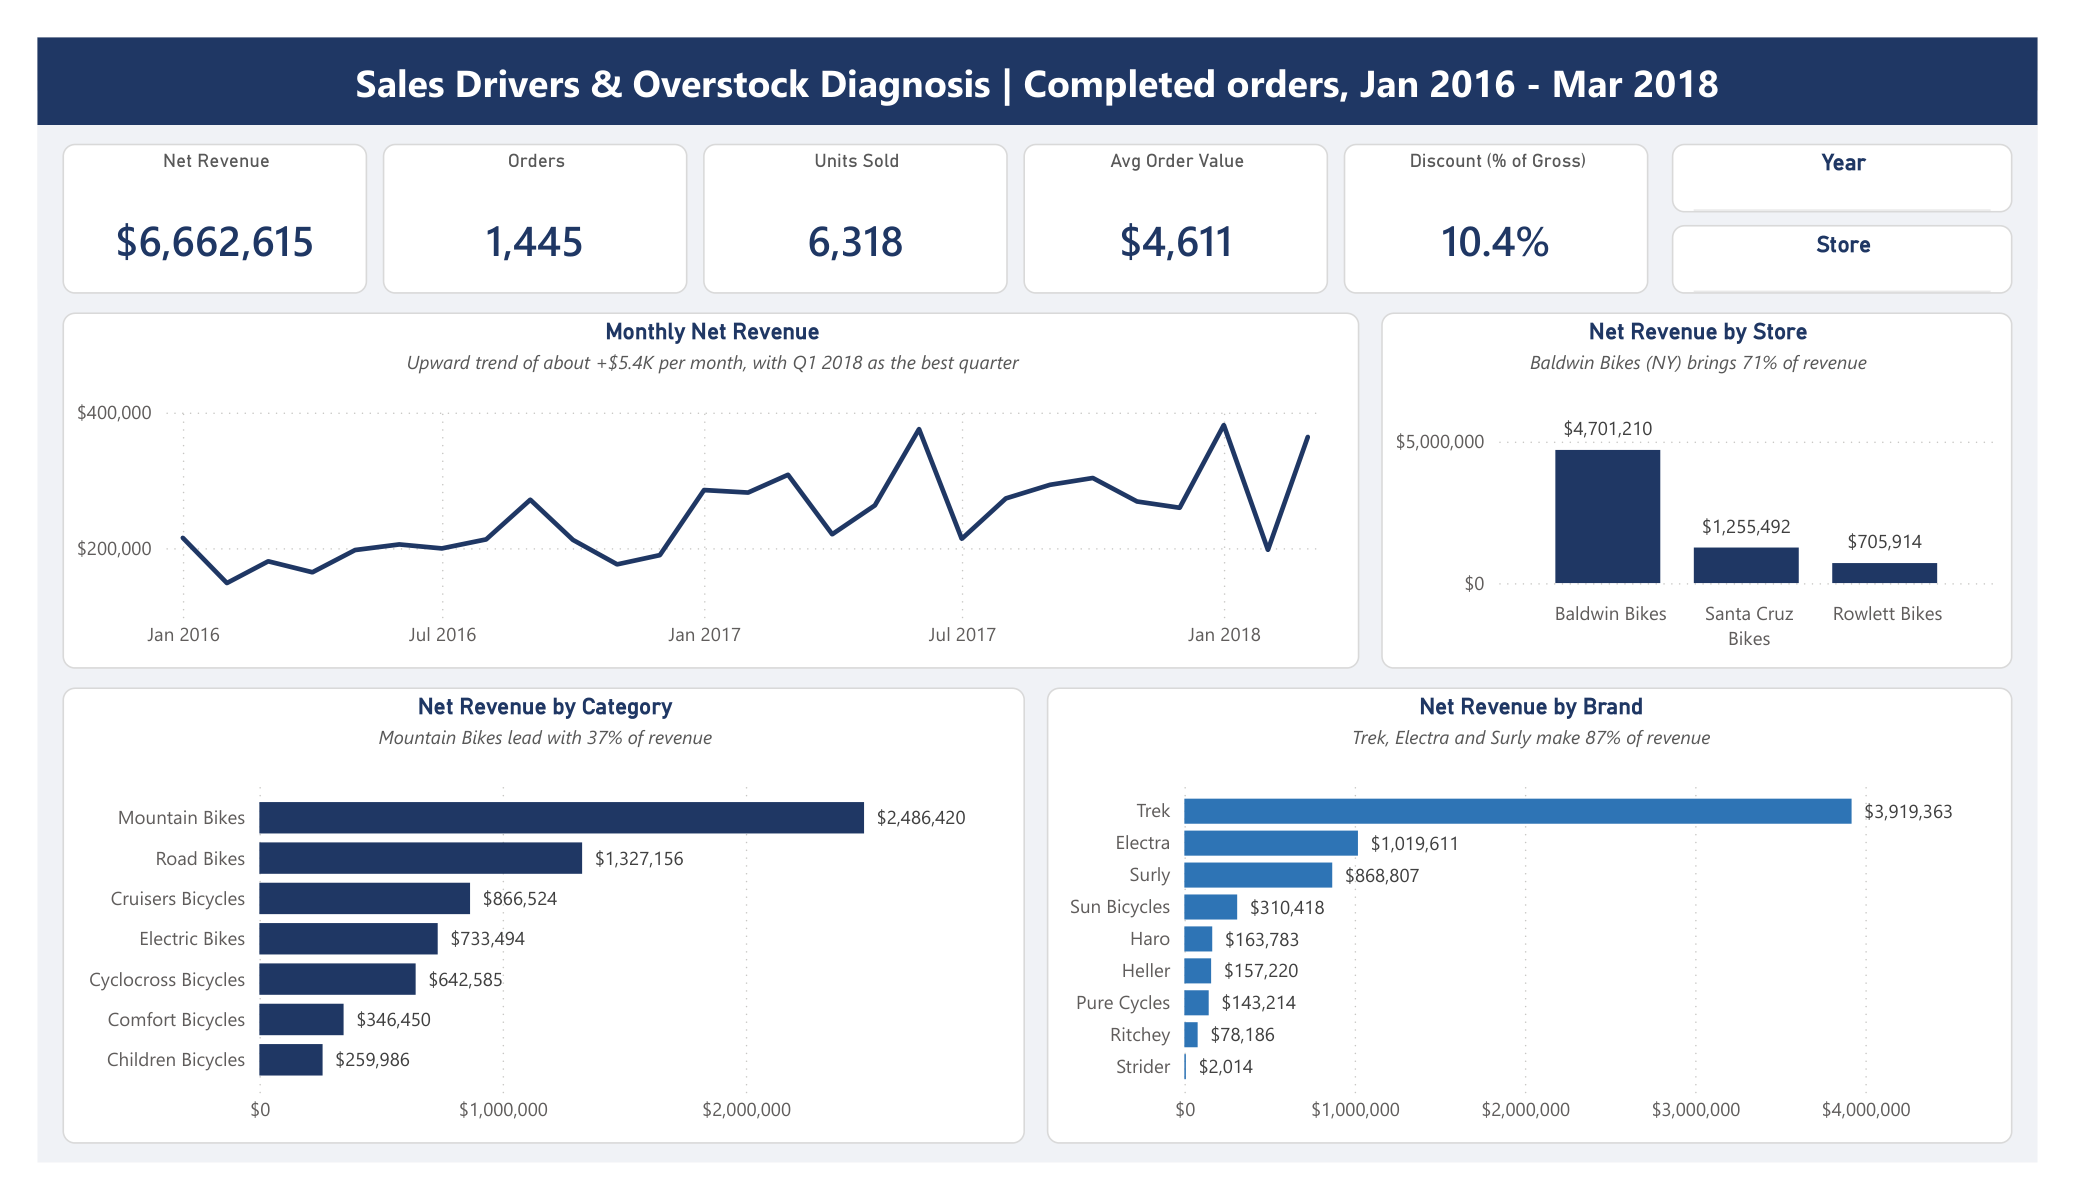

What the dashboard file says about the page in this screenshot:
{"tool":"powerbi","page":{"name":"Overview","canvas":[1280,720],"ordinal":0},"visuals":[{"type":"shape","box":[0,0,1280,56],"z":1000},{"type":"cardVisual","title":"Net Revenue","fields":{"Data":["Sales.Net Revenue"]},"box":[16,68,195,96],"z":2000},{"type":"cardVisual","title":"Orders","fields":{"Data":["Sales.Orders"]},"box":[221,68,195,96],"z":3000},{"type":"cardVisual","title":"Units Sold","fields":{"Data":["Sales.Units"]},"box":[426,68,195,96],"z":4000},{"type":"cardVisual","title":"Avg Order Value","fields":{"Data":["Sales.Avg Order Value"]},"box":[631,68,195,96],"z":5000},{"type":"cardVisual","title":"Discount (% of Gross)","fields":{"Data":["Sales.Discount %"]},"box":[836,68,195,96],"z":6000},{"type":"slicer","title":"Year","fields":{"Values":["Date.Year"]},"box":[1046,68,218,44],"z":7000},{"type":"slicer","title":"Store","fields":{"Values":["Stores.Store"]},"box":[1046,120,218,44],"z":8000},{"type":"lineChart","title":"Monthly Net Revenue","fields":{"Category":["Date.Month Start"],"Y":["Sales.Net Revenue"]},"box":[16,176,830,228],"z":9000},{"type":"clusteredColumnChart","title":"Net Revenue by Store","fields":{"Category":["Stores.Store"],"Y":["Sales.Net Revenue"]},"box":[860,176,404,228],"z":10000},{"type":"clusteredBarChart","title":"Net Revenue by Category","fields":{"Category":["Products.Category"],"Y":["Sales.Net Revenue"]},"box":[16,416,616,292],"z":11000},{"type":"clusteredBarChart","title":"Net Revenue by Brand","fields":{"Category":["Products.Brand"],"Y":["Sales.Net Revenue"]},"box":[646,416,618,292],"z":12000}]}

Visuals, with their boxes on the page's 1280x720 design canvas (x1, y1, x2, y2). These are canvas units, not pixel positions in the 2075x1200 screenshot, which may show the page scaled, cropped or inside an application window:
shape: bbox=(0, 0, 1280, 56)
"Net Revenue" cardVisual: bbox=(16, 68, 211, 164)
"Orders" cardVisual: bbox=(221, 68, 416, 164)
"Units Sold" cardVisual: bbox=(426, 68, 621, 164)
"Avg Order Value" cardVisual: bbox=(631, 68, 826, 164)
"Discount (% of Gross)" cardVisual: bbox=(836, 68, 1031, 164)
"Year" slicer: bbox=(1046, 68, 1264, 112)
"Store" slicer: bbox=(1046, 120, 1264, 164)
"Monthly Net Revenue" lineChart: bbox=(16, 176, 846, 404)
"Net Revenue by Store" clusteredColumnChart: bbox=(860, 176, 1264, 404)
"Net Revenue by Category" clusteredBarChart: bbox=(16, 416, 632, 708)
"Net Revenue by Brand" clusteredBarChart: bbox=(646, 416, 1264, 708)
